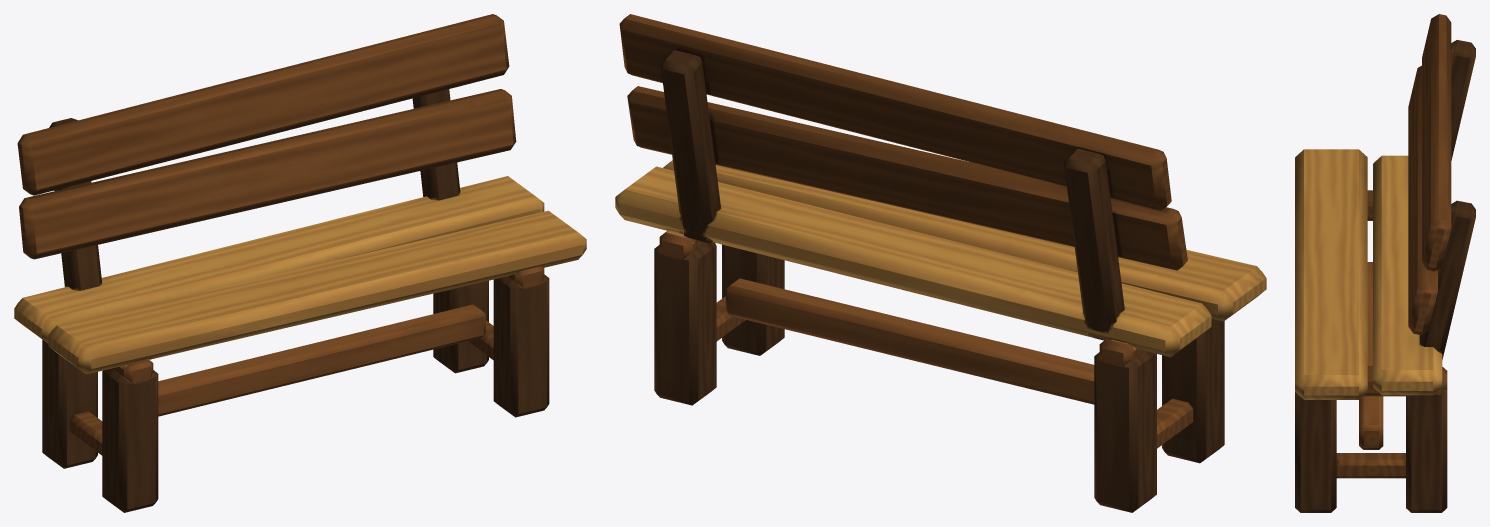
File: bench.glb
3 renders of one model, left to right at view 1: azimuth 30°, elevation 25°; view 2: azimuth 150°, elevation 25°; view 3: azimuth 270°, elevation 25°, orthographic. The views are drawn at different scales.
Parts seen in each view (by area): view 1: bench; view 2: bench; view 3: bench.
Part boxes in pixels (<box>): bench: <box>14,14,586,512</box>; bench: <box>615,14,1266,512</box>; bench: <box>1295,14,1475,512</box>.
Size of the model in its own units: 1.56 by 0.9767 by 0.5224.
1 material, 1 textured.
